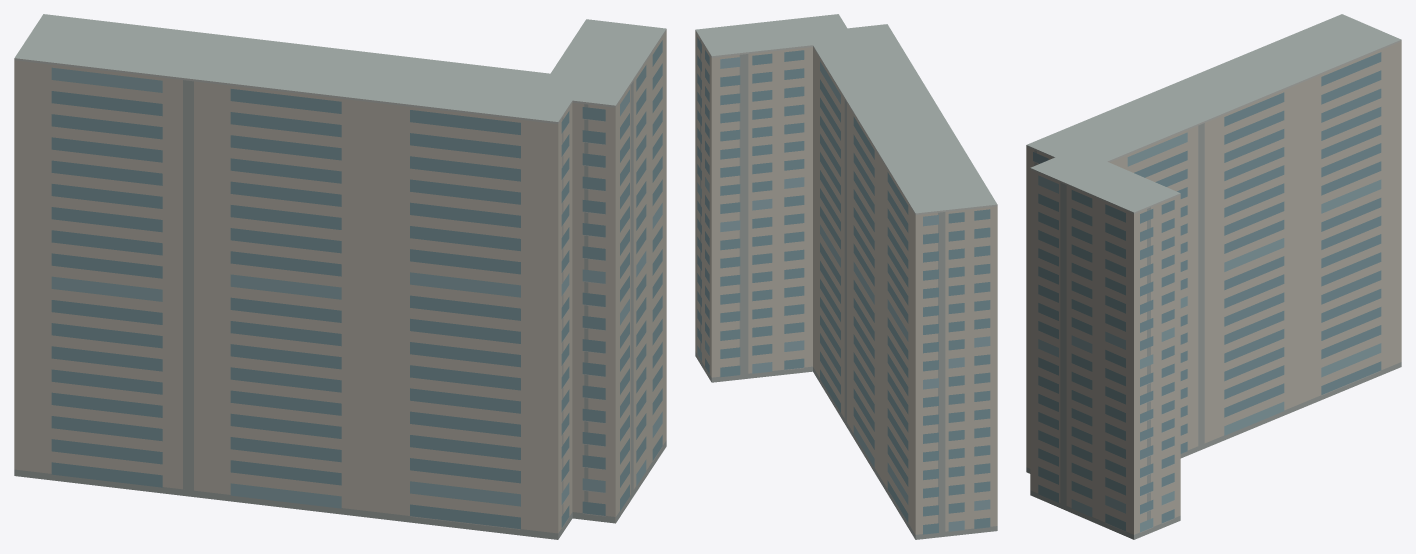
Rendered from residential-14f149a0-dc32-479b-89c7-267d645aefe5.glb.
3 renders of one model, left to right at view 1: azimuth 30°, elevation 25°; view 2: azimuth 150°, elevation 25°; view 3: azimuth 270°, elevation 25°, orthographic. The views are drawn at different scales.
Visible parts, largest first — view 1: residential-14f149a0-dc32-479b-89c7-267d645aefe5.tmp; view 2: residential-14f149a0-dc32-479b-89c7-267d645aefe5.tmp; view 3: residential-14f149a0-dc32-479b-89c7-267d645aefe5.tmp.
Boxes of the visible parts, x1,y1,x2,y2 form: residential-14f149a0-dc32-479b-89c7-267d645aefe5.tmp: (14, 14, 666, 539); residential-14f149a0-dc32-479b-89c7-267d645aefe5.tmp: (695, 14, 997, 539); residential-14f149a0-dc32-479b-89c7-267d645aefe5.tmp: (1026, 14, 1401, 539).
Bounding box in the file's own units: 62.46 × 48 × 49.87.
